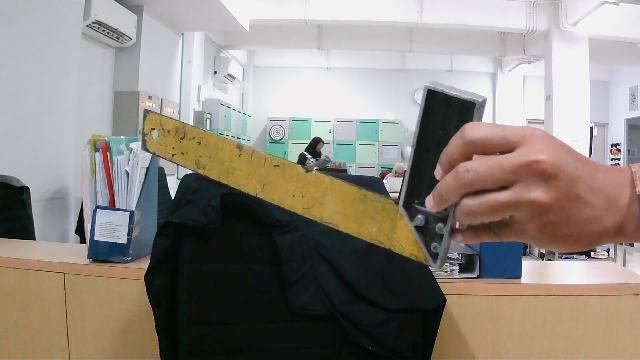penggaris_siku: (135, 58, 491, 280)
